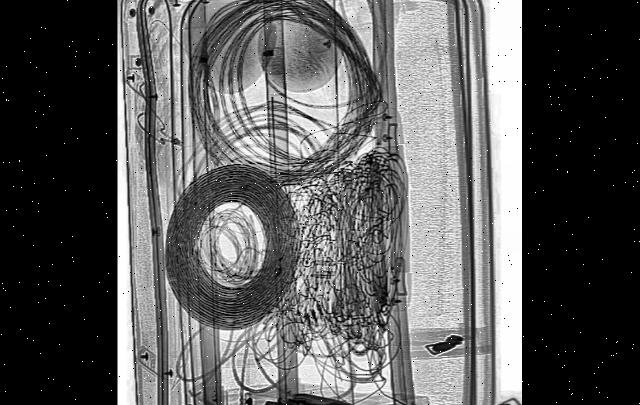Gun: (264, 387, 410, 405)
